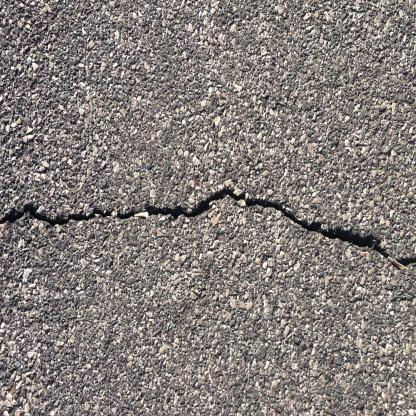Cracks: (0, 184, 416, 270)
